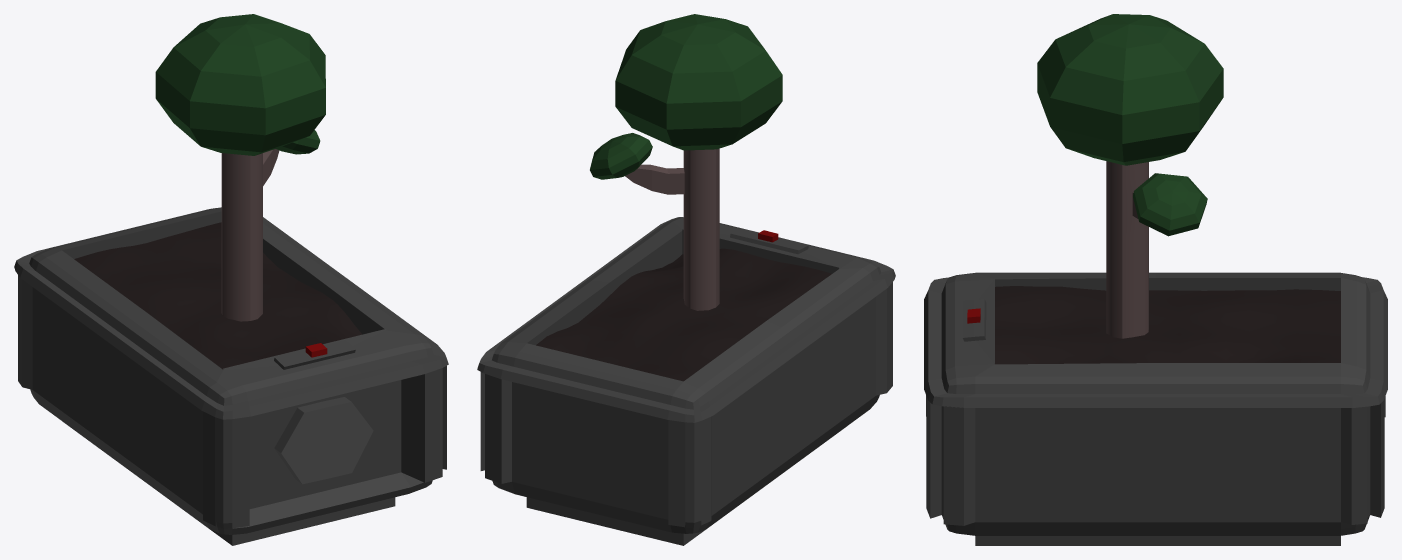
The picture shows the model from 3 angles, left to right: view 1: azimuth 30°, elevation 25°; view 2: azimuth 150°, elevation 25°; view 3: azimuth 270°, elevation 25°; orthographic projection. The views are drawn at different scales.
Parts seen in each view (by area): view 1: Botanical_Table1, pasted__pCube32, Soil1; view 2: Botanical_Table1, pasted__pCube32, Soil1; view 3: Botanical_Table1, pasted__pCube32, Soil1.
Boxes of the visible parts, left/top/right/bottom form: Botanical_Table1: left=14, top=207, right=448, bottom=545; pasted__pCube32: left=155, top=14, right=325, bottom=321; Soil1: left=74, top=222, right=361, bottom=369; Botanical_Table1: left=477, top=217, right=895, bottom=545; pasted__pCube32: left=590, top=14, right=782, bottom=310; Soil1: left=536, top=248, right=831, bottom=381; Botanical_Table1: left=924, top=272, right=1387, bottom=545; pasted__pCube32: left=1037, top=14, right=1223, bottom=338; Soil1: left=995, top=286, right=1340, bottom=364.
Size of the model in its own units: 20.39 by 36.52 by 31.93.
